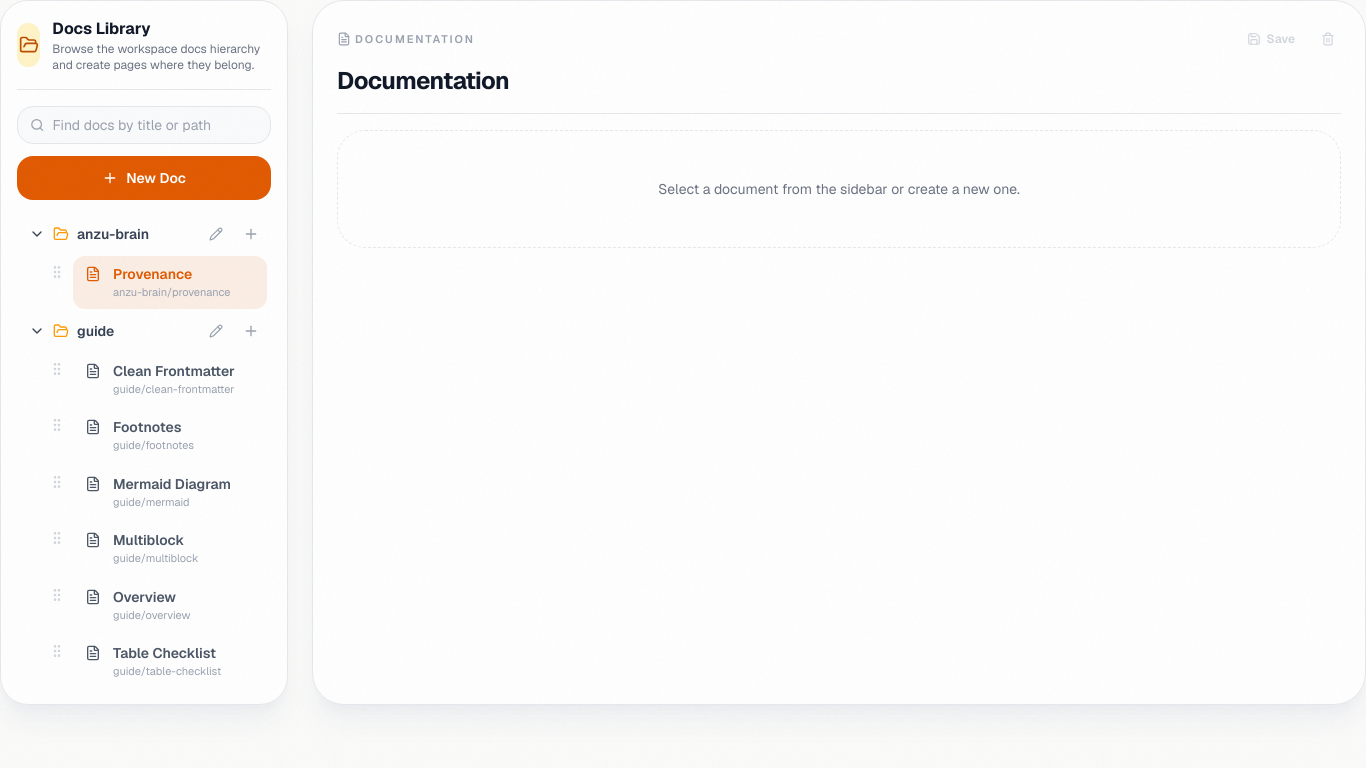
it: DocsScreen block-scoped rendered editing (FLUX-1663) › a document with footnotes opens in Markdown mode with a visible notice
Expected: the text "Provenance" is shown, [113,265,192,283]
Click the text "Footnotes" at {"x": 147, "y": 427}, box [113,418,181,436]
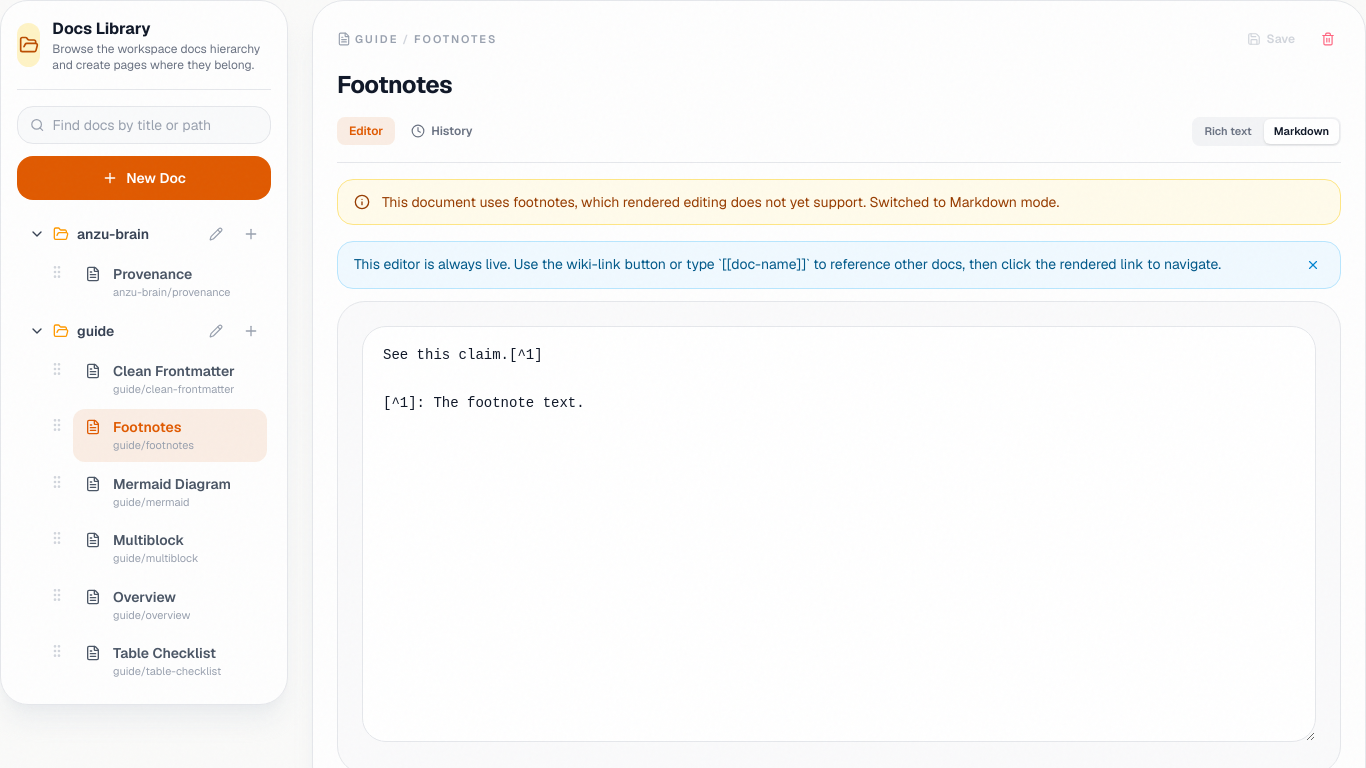
Now the text "uses footnotes" is shown, box [382,192,866,210]
